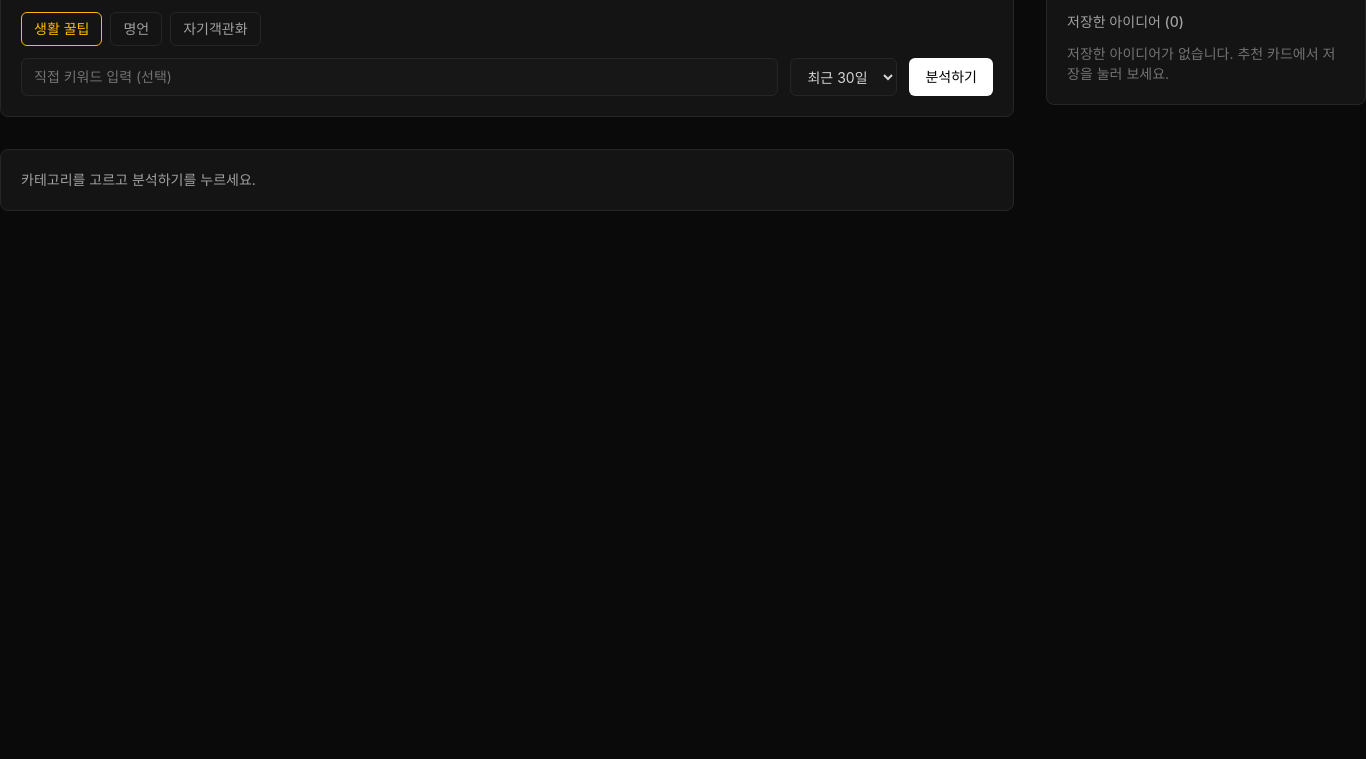
Test: Dashboard › 검색 › 영상이 0개면 표 대신 안내 문구를 보여 주고 fallback 아이디어는 유지한다
The image size is (1366, 759).
Click the button "분석하기" at (951, 77), box [910,58,993,96]
(page scrolled)
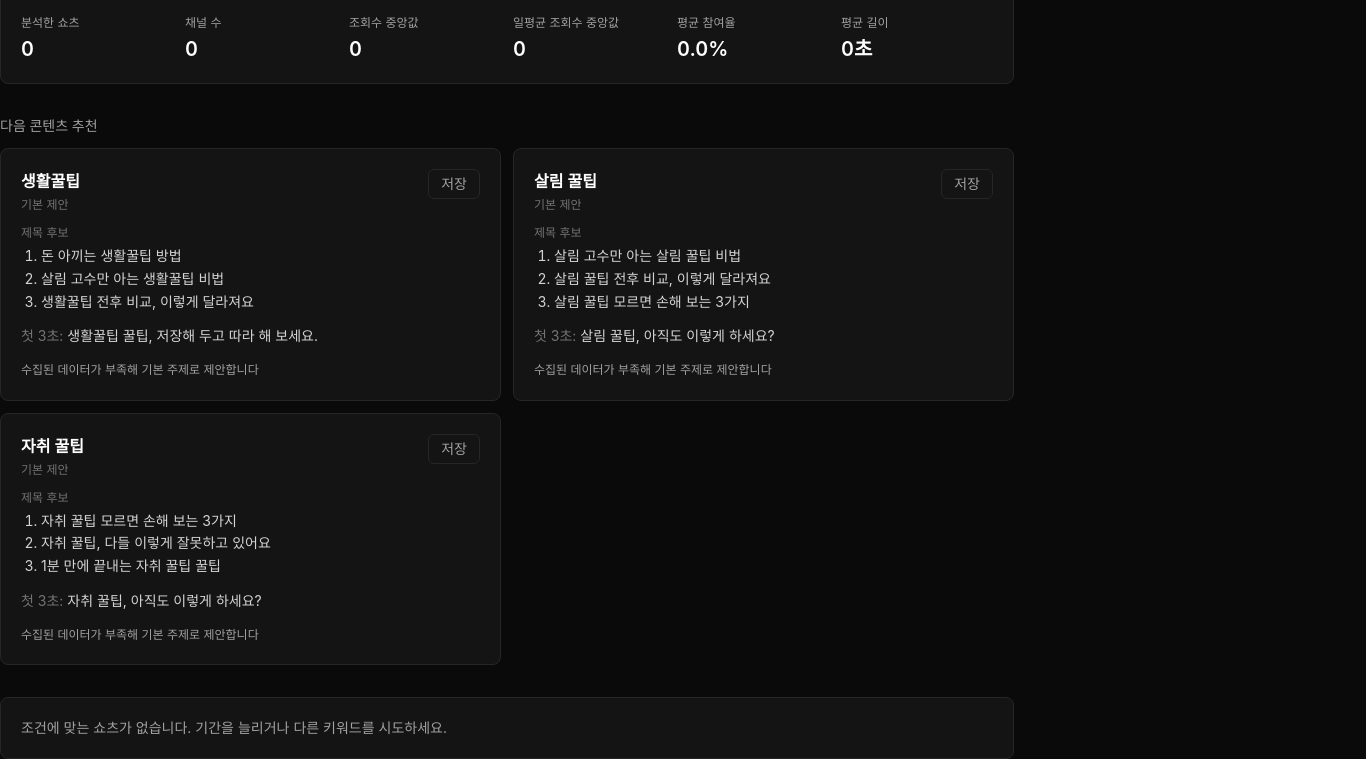
expect the text "조건에 맞는 쇼츠가 없습니다. 기간을 늘리거나 다른 키워드를 시도하세요." is shown: met, box [0,697,1014,758]
expect the text "기본 제안" is shown 3 times: met, box [21,197,68,212]; [534,197,582,212]; [21,462,68,476]
